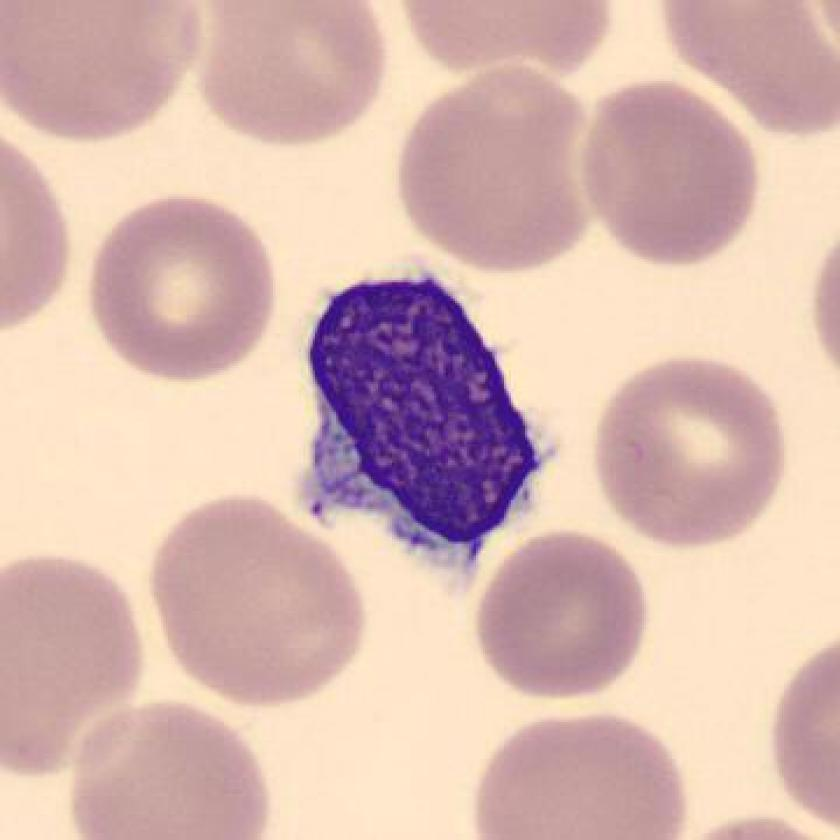lymphocyte: (281, 256, 573, 601)
